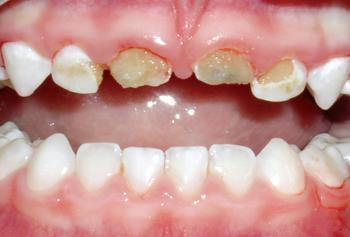cavity: (105, 44, 180, 92), (48, 44, 106, 104), (192, 48, 257, 95), (253, 58, 309, 107)
normal: (256, 135, 308, 205), (26, 130, 79, 197), (161, 138, 212, 203), (2, 40, 55, 102), (71, 135, 125, 195), (209, 143, 260, 201), (307, 52, 350, 120), (304, 131, 350, 194), (120, 144, 167, 197), (0, 122, 33, 181)
